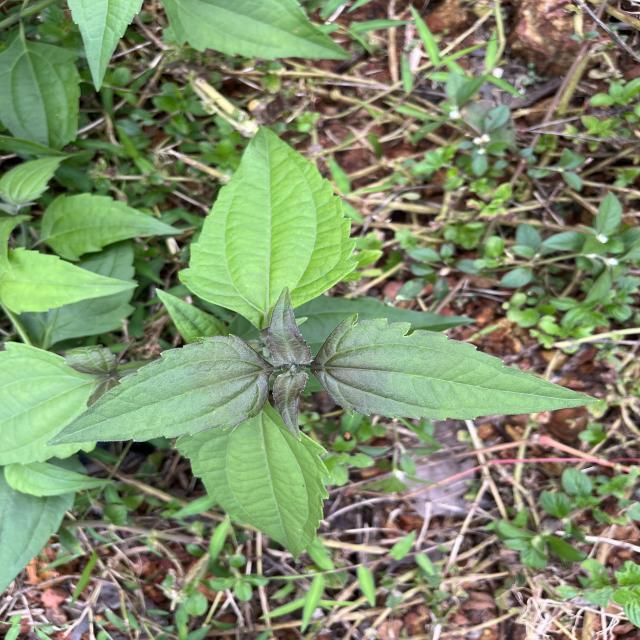Chromolaena odorata: (311, 303, 606, 428), (40, 329, 272, 451)
